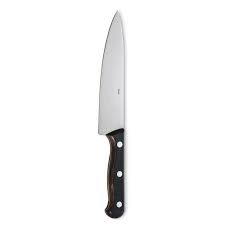knife: (97, 9, 128, 219)
